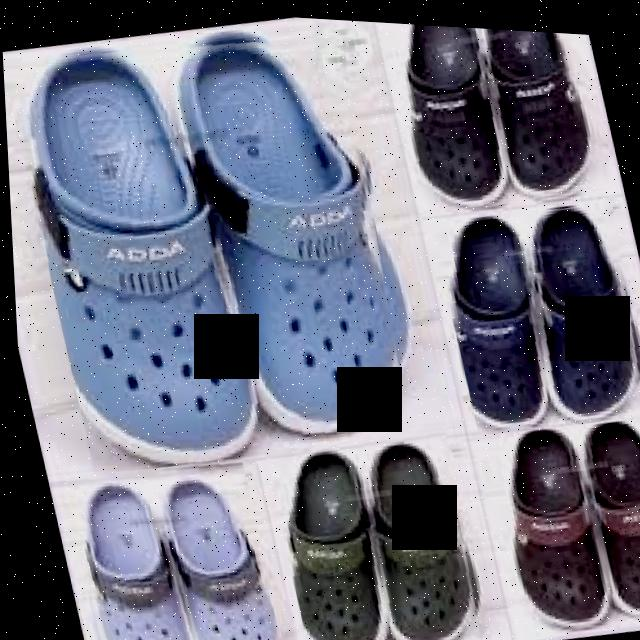shoe: (0, 0, 429, 489), (427, 183, 640, 438), (257, 415, 487, 640), (378, 18, 614, 219), (46, 441, 281, 640), (474, 398, 640, 640)
